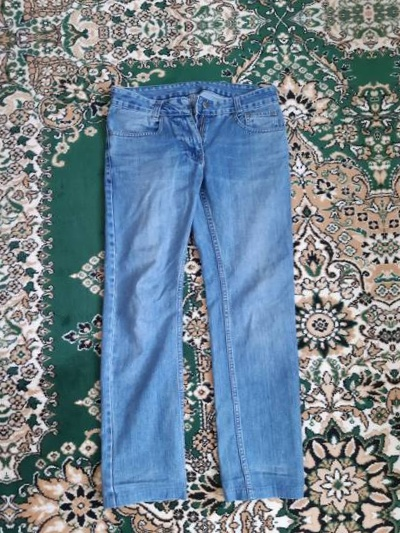Pants: (57, 57, 349, 522), (91, 532, 384, 533)
